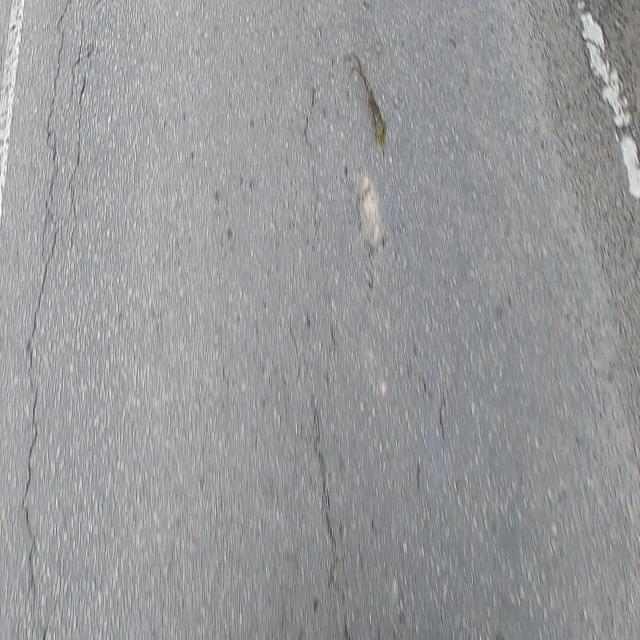Retak-Memanjang: (19, 1, 65, 601), (308, 401, 350, 637), (69, 34, 103, 243)
